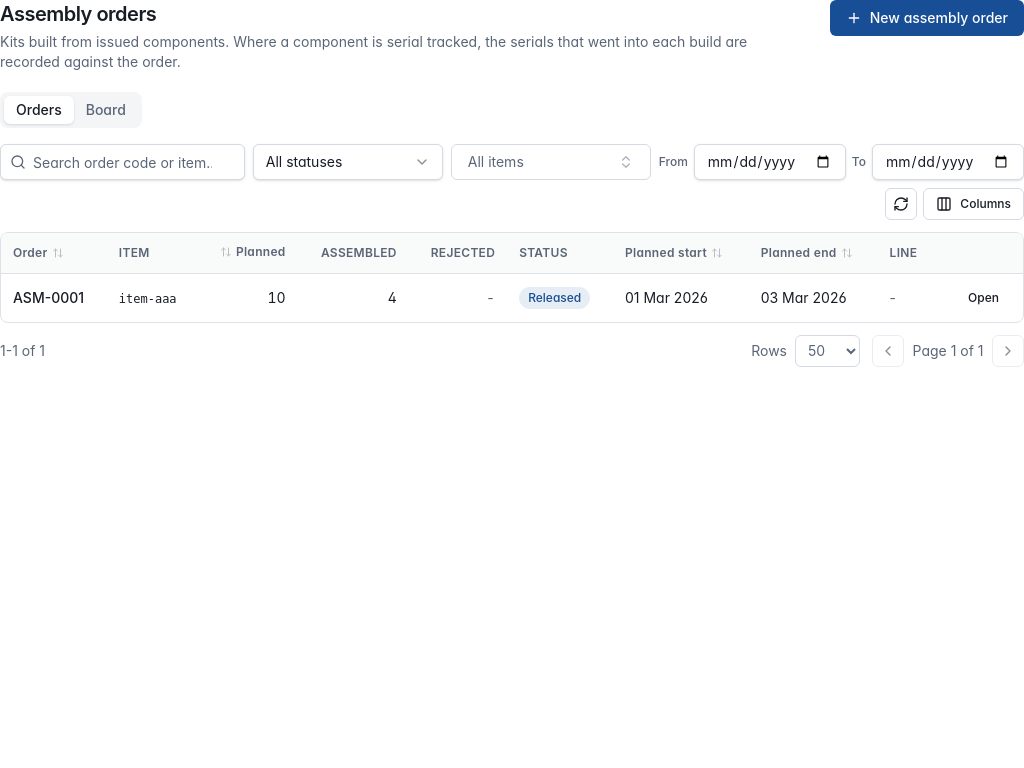
Test case: what the order panel offers, status by status › offers issuing from RELEASED, and completion nowhere near it
Check: the button "ASM-0001" is shown, box x1=13 y1=288 x2=84 y2=308
Click the button "Open": (984, 298) x1=956 y1=282 x2=1011 y2=314
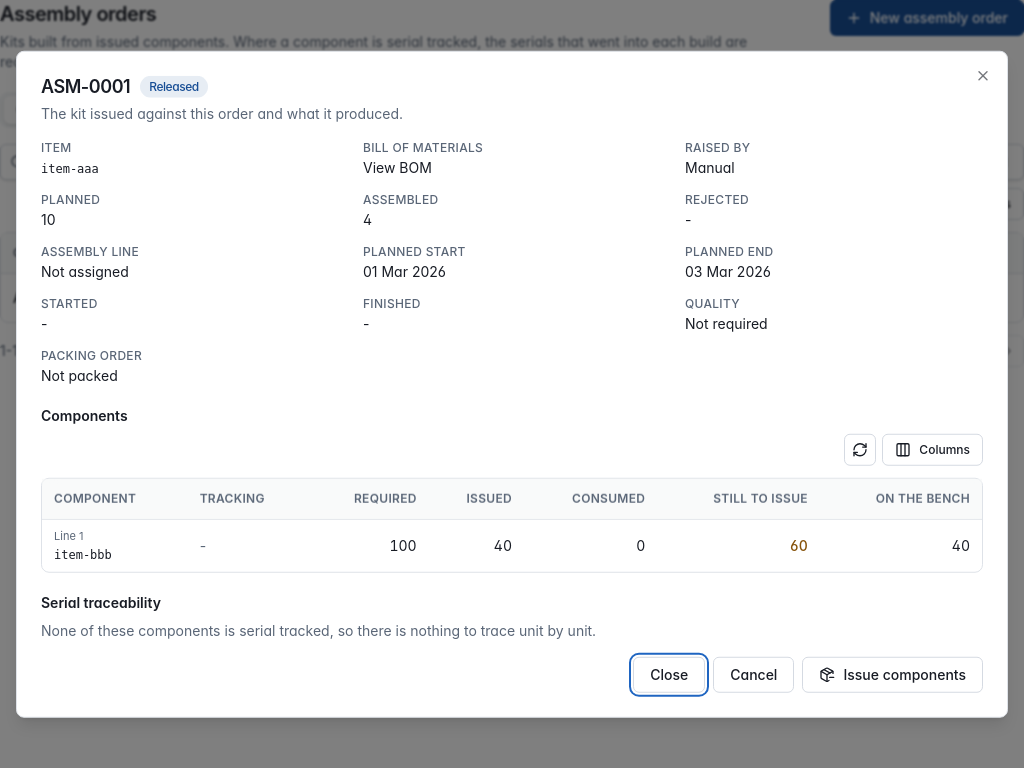
Check: the dialog is shown
Check: the button "Issue components" is shown, box x1=802 y1=656 x2=983 y2=692
